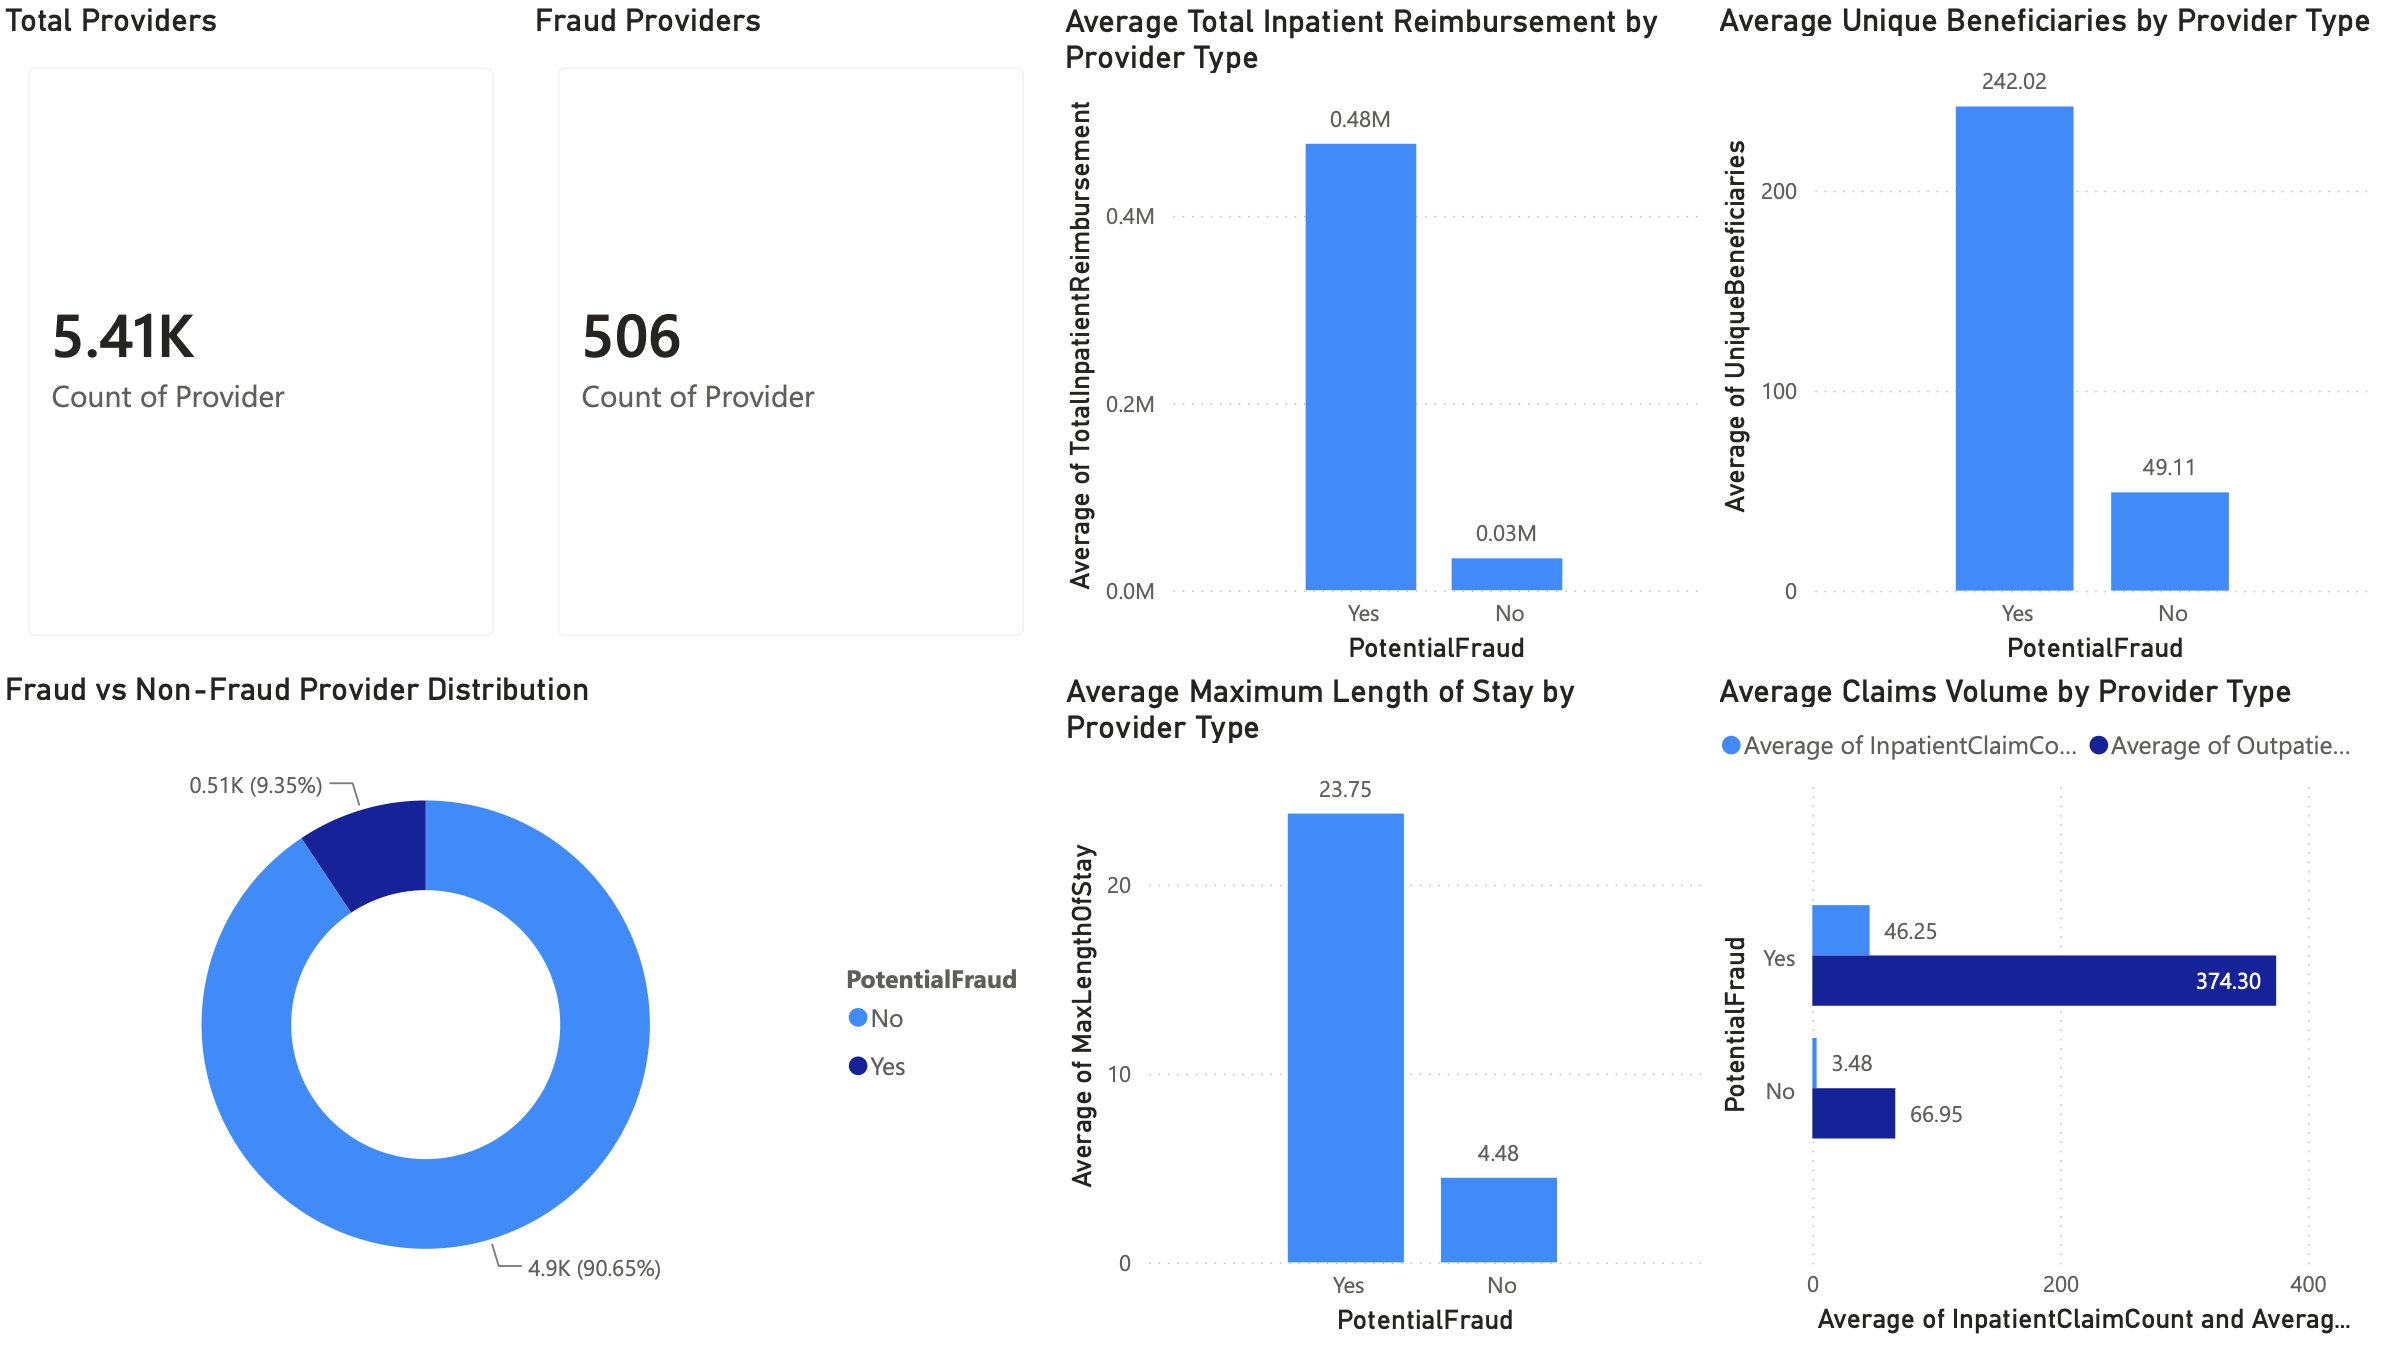

Layout of this report page (visuals, bound fields, positions):
{"tool":"powerbi","page":{"name":"Executive Overview","canvas":[1280,720],"ordinal":0},"visuals":[{"type":"donutChart","title":"Fraud vs Non-Fraud Provider Distribution","fields":{"Category":["provider_fraud_modeling_dataset.PotentialFraud"],"Y":["CountNonNull(provider_fraud_modeling_dataset.Provider)"]},"box":[0,358.7,568.6,361.2],"z":0},{"type":"cardVisual","title":"Total Providers","fields":{"Data":["CountNonNull(provider_fraud_modeling_dataset.Provider)","select"]},"box":[0,0,284.3,358.7],"z":1000},{"type":"cardVisual","title":"Fraud Providers","fields":{"Data":["CountNonNull(provider_fraud_modeling_dataset.Provider)"]},"box":[284.3,0,284.3,358.7],"z":2000},{"type":"clusteredColumnChart","title":"Average Total Inpatient Reimbursement by Provider Type","fields":{"Category":["provider_fraud_modeling_dataset.PotentialFraud"],"Y":["Avg(provider_fraud_modeling_dataset.TotalInpatientReimbursement)"]},"box":[568.4,1.3,350.2,358.7],"z":3000},{"type":"clusteredColumnChart","title":"Average Unique Beneficiaries by Provider Type","fields":{"Category":["provider_fraud_modeling_dataset.PotentialFraud"],"Y":["Avg(provider_fraud_modeling_dataset.UniqueBeneficiaries)"]},"box":[918.6,0.1,361.2,360],"z":4000},{"type":"clusteredColumnChart","title":"Average Maximum Length of Stay by Provider Type","fields":{"Category":["provider_fraud_modeling_dataset.PotentialFraud"],"Y":["Avg(provider_fraud_modeling_dataset.MaxLengthOfStay)"]},"box":[568.6,360.1,350,360],"z":5000},{"type":"clusteredBarChart","title":"Average Claims Volume by Provider Type","fields":{"Category":["provider_fraud_modeling_dataset.PotentialFraud"],"Y":["Avg(provider_fraud_modeling_dataset.InpatientClaimCount)","Avg(provider_fraud_modeling_dataset.OutpatientClaimCount)"]},"box":[918.6,360.1,361,360],"z":6000}]}

Visuals, with their boxes in screenshot pixels (x1, y1, x2, y2), scaled from the page's 1280x720 canvas onto the 2382x1350 screenshot:
"Fraud vs Non-Fraud Provider Distribution" donutChart: 0/673/1058/1349
"Total Providers" cardVisual: 0/0/529/673
"Fraud Providers" cardVisual: 529/0/1058/673
"Average Total Inpatient Reimbursement by Provider Type" clusteredColumnChart: 1058/2/1709/675
"Average Unique Beneficiaries by Provider Type" clusteredColumnChart: 1709/0/2381/675
"Average Maximum Length of Stay by Provider Type" clusteredColumnChart: 1058/675/1709/1349
"Average Claims Volume by Provider Type" clusteredBarChart: 1709/675/2381/1349
